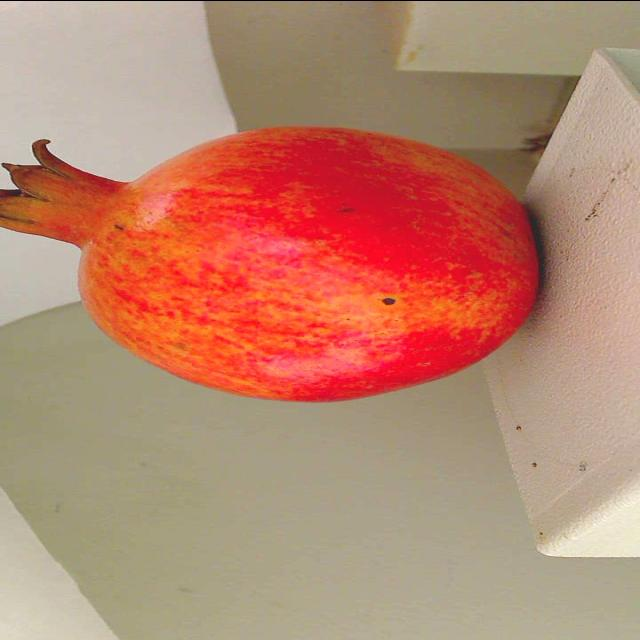pomegranate: (0, 120, 560, 402)
